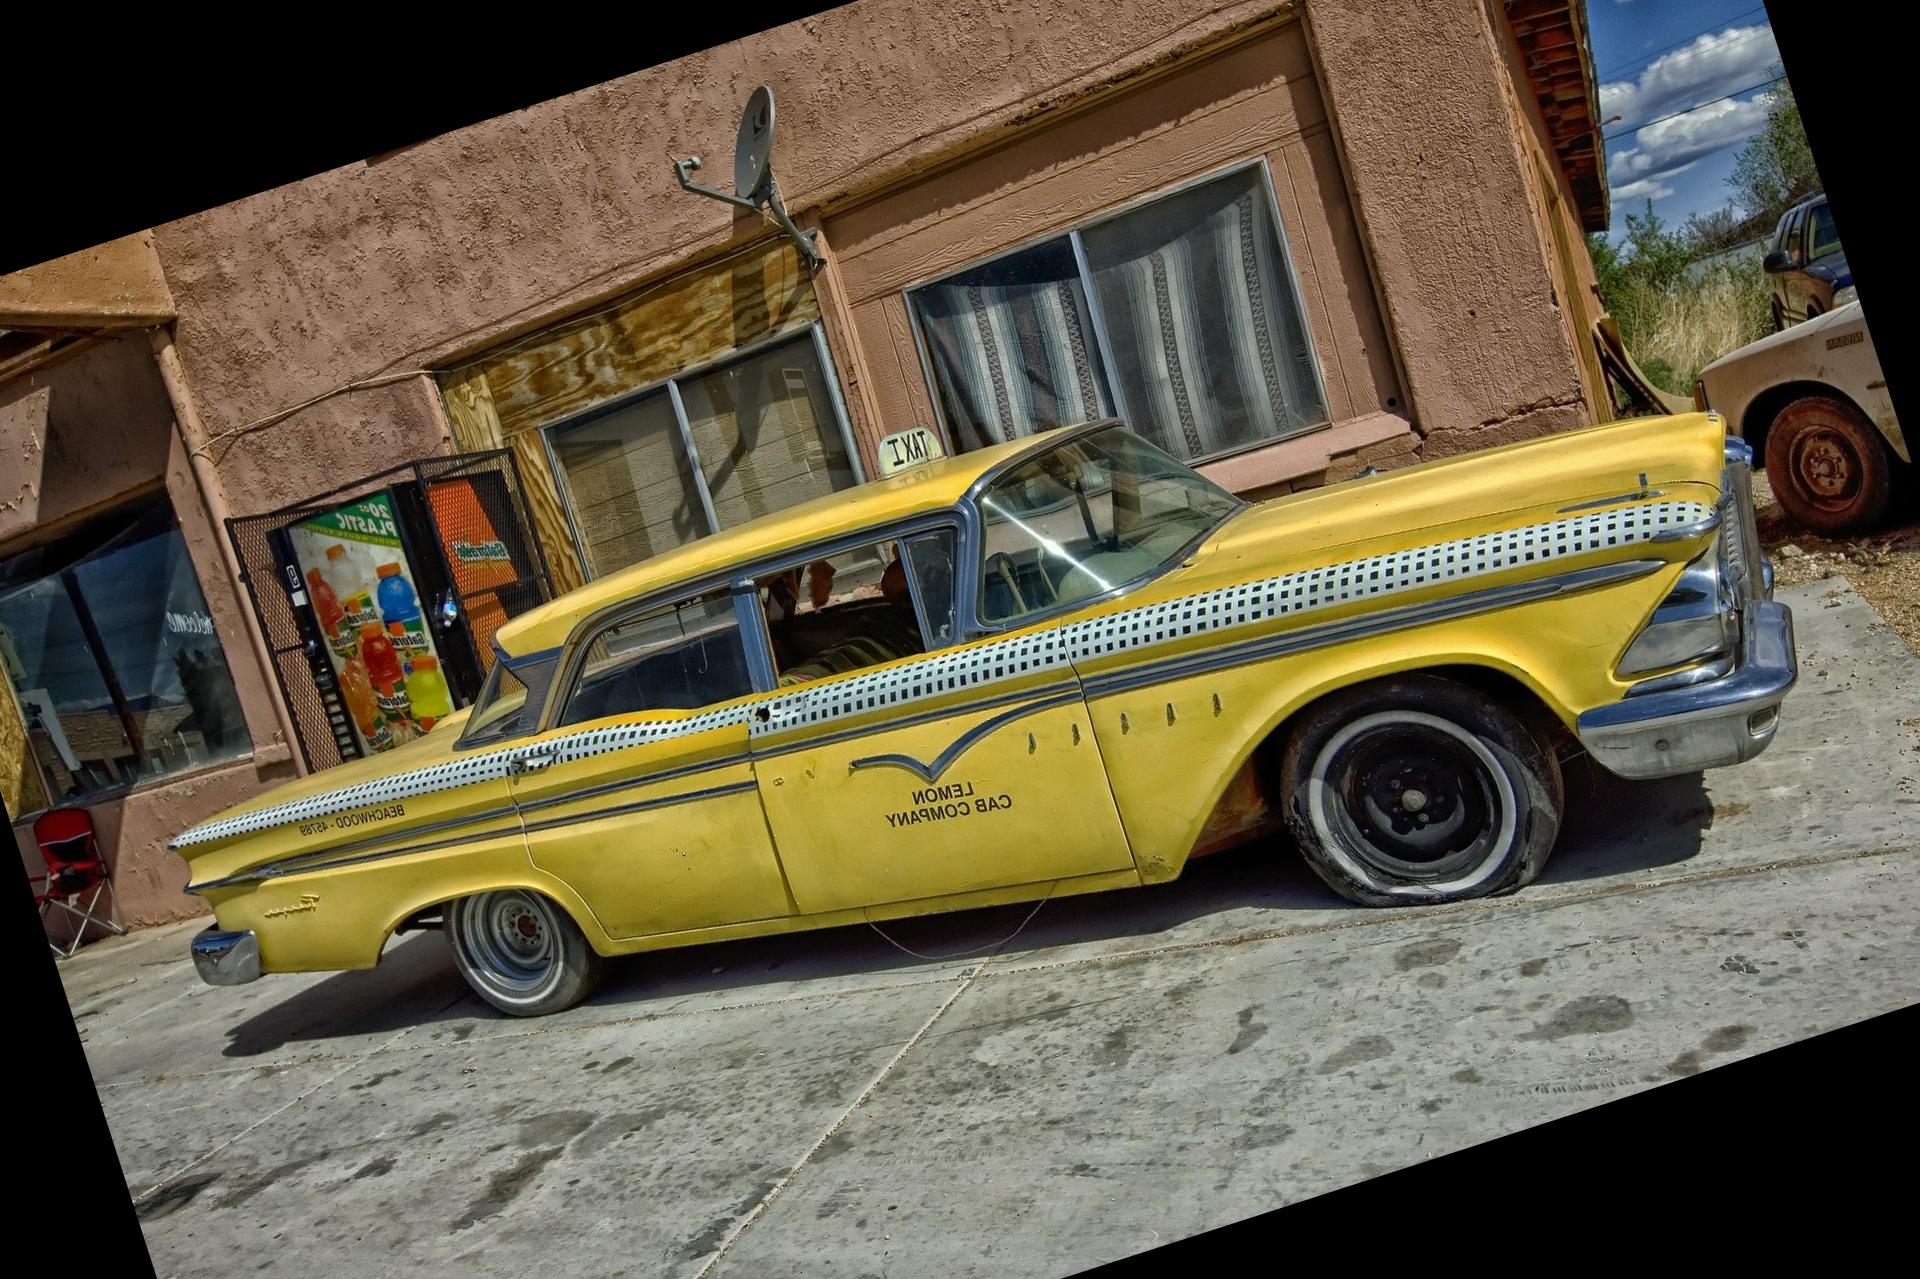taxi: (150, 385, 1742, 1013)
